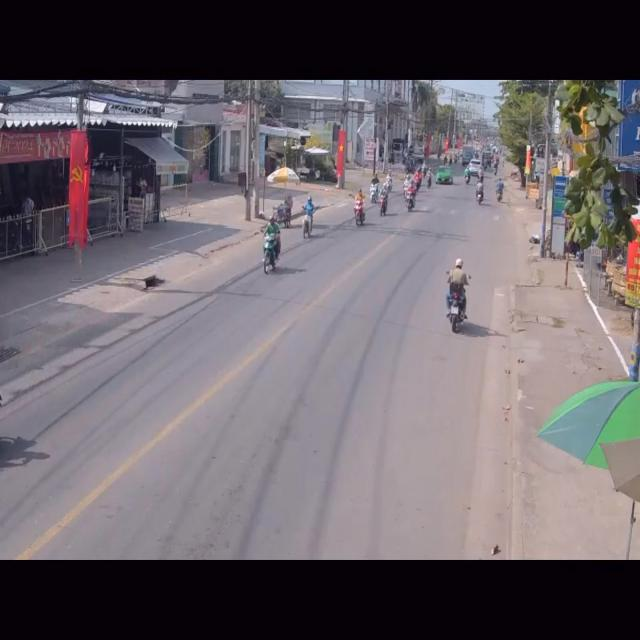motorbike: (442, 259, 468, 335), (264, 219, 283, 277), (302, 194, 316, 242), (353, 189, 366, 230)
